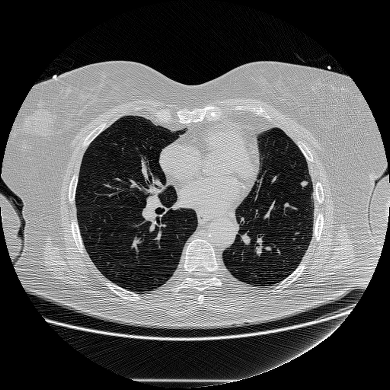nodule: (300, 179, 308, 187)
